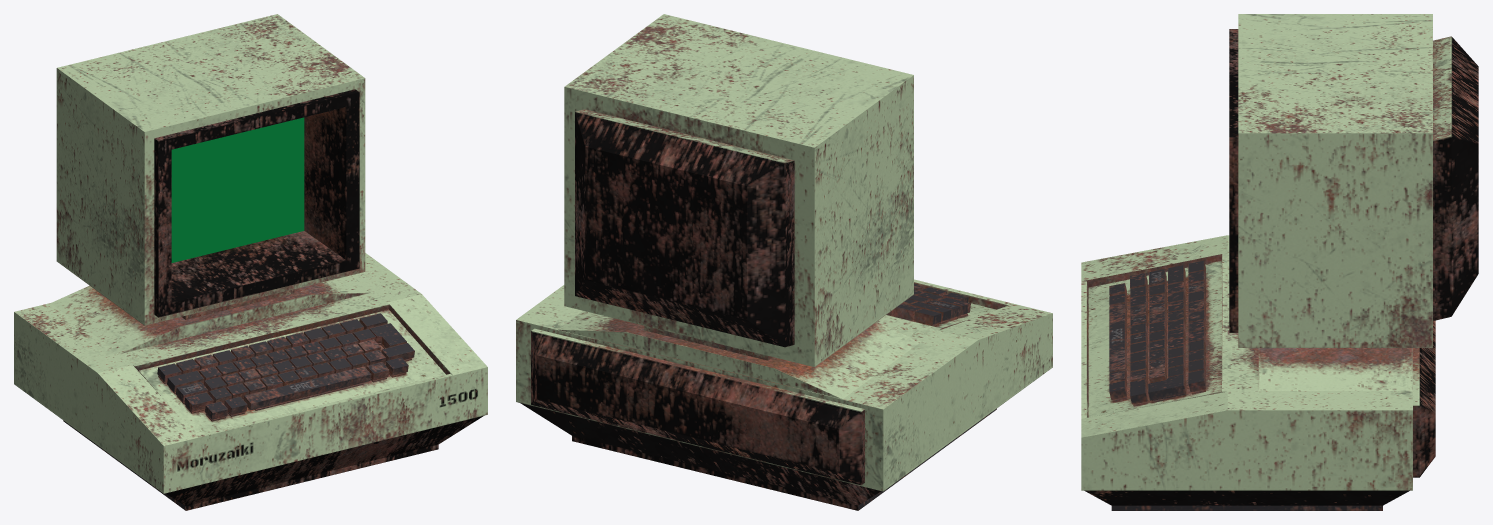
Rendered from old_rusty_computer.glb.
3 renders of one model, left to right at view 1: azimuth 30°, elevation 25°; view 2: azimuth 150°, elevation 25°; view 3: azimuth 270°, elevation 25°, orthographic. The views are drawn at different scales.
Parts seen in each view (by area): view 1: Object_2, Object_2.001; view 2: Object_2; view 3: Object_2.
Part boxes in pixels (x1,y1,x2,y2): Object_2: (14, 14, 487, 510); Object_2.001: (171, 117, 304, 262); Object_2: (516, 14, 1052, 510); Object_2: (1081, 14, 1478, 510).
Size of the model in its own units: 7.53 by 7.4 by 7.22.
2 materials, 1 textured.
